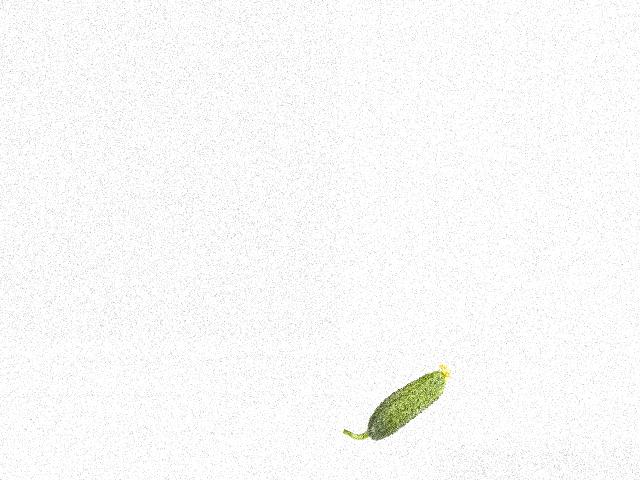cucumber: (344, 363, 451, 441)
